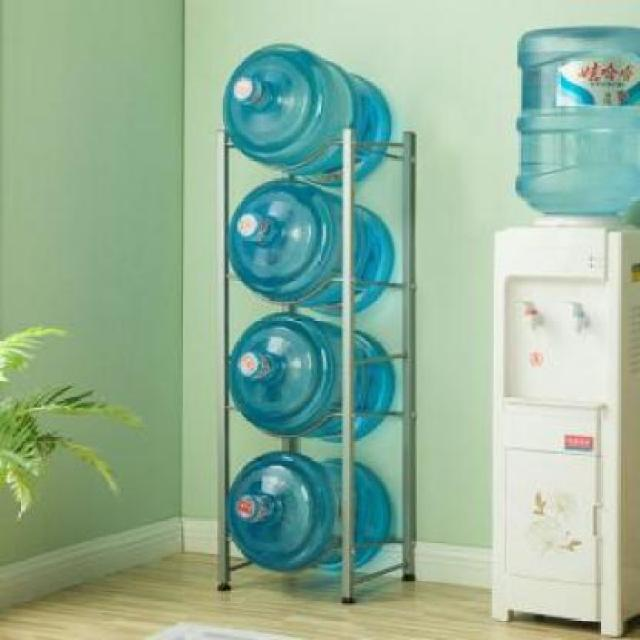coolerbottle: (508, 23, 639, 219), (223, 38, 393, 188), (226, 177, 402, 314), (226, 312, 399, 448), (223, 454, 395, 580)
